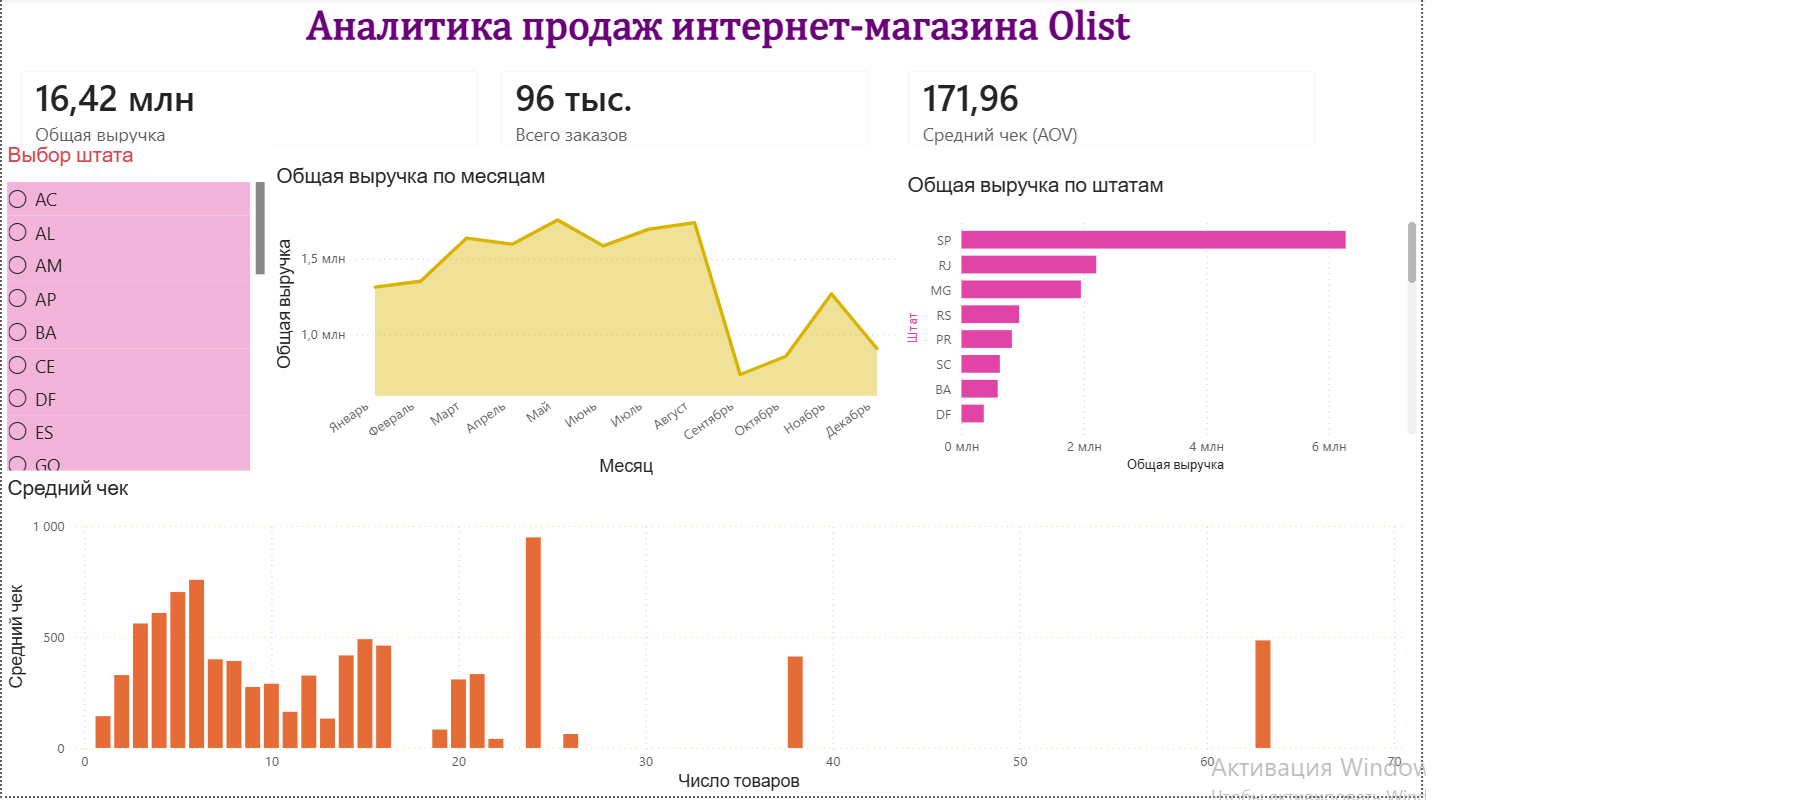

What the dashboard file says about the page in this screenshot:
{"tool":"powerbi","page":{"name":"Страница 1","canvas":[1280,720],"ordinal":0},"visuals":[{"type":"textbox","box":[9.7,0,1270.6,81.4],"z":0},{"type":"cardVisual","fields":{"Data":["olist_powerbi_clean.Общая выручкаОбщая выручка"]},"box":[0,48.3,447,102.1],"z":1},{"type":"cardVisual","fields":{"Data":["olist_powerbi_clean.Количество заказовВсего заказов"]},"box":[433.2,48.3,367,102.1],"z":2},{"type":"cardVisual","fields":{"Data":["olist_powerbi_clean.Средний чек (AOV)Средний чек (AOV)"]},"box":[800.2,48.3,401.5,102.1],"z":3},{"type":"listSlicer","title":"Выбор штата","fields":{"Values":["olist_powerbi_clean.customer_state"]},"box":[0,131.1,242.8,300.8],"z":4},{"type":"lineChart","title":"Общая выручка по месяцам","fields":{"Category":["olist_powerbi_clean.order_month.Изменение.Иерархия дат.Месяц"],"Y":["olist_powerbi_clean.Общая выручка"]},"box":[242.8,150.4,568.4,285.6],"z":5},{"type":"barChart","title":"Общая выручка по штатам","fields":{"Category":["olist_powerbi_clean.customer_state"],"Y":["olist_powerbi_clean.Общая выручка"]},"box":[811.2,157.3,469.1,274.5],"z":6},{"type":"clusteredColumnChart","title":"Средний чек","fields":{"Category":["olist_powerbi_clean.items_count"],"Y":["olist_powerbi_clean.Средний чек (AOV)"]},"box":[0,431.8,1267.9,288.3],"z":8}]}

Visuals, with their boxes on the page's 1280x720 design canvas (x1, y1, x2, y2). These are canvas units, not pixel positions in the 1804x800 screenshot, which may show the page scaled, cropped or inside an application window:
textbox: <bbox>10, 0, 1280, 81</bbox>
cardVisual - olist_powerbi_clean.Общая выручкаОбщая выручка: <bbox>0, 48, 447, 150</bbox>
cardVisual - olist_powerbi_clean.Количество заказовВсего заказов: <bbox>433, 48, 800, 150</bbox>
cardVisual - olist_powerbi_clean.Средний чек (AOV)Средний чек (AOV): <bbox>800, 48, 1202, 150</bbox>
"Выбор штата" listSlicer: <bbox>0, 131, 243, 432</bbox>
"Общая выручка по месяцам" lineChart: <bbox>243, 150, 811, 436</bbox>
"Общая выручка по штатам" barChart: <bbox>811, 157, 1280, 432</bbox>
"Средний чек" clusteredColumnChart: <bbox>0, 432, 1268, 720</bbox>
